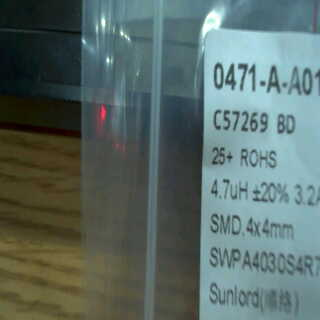4.7uH: (205, 178, 251, 202)
